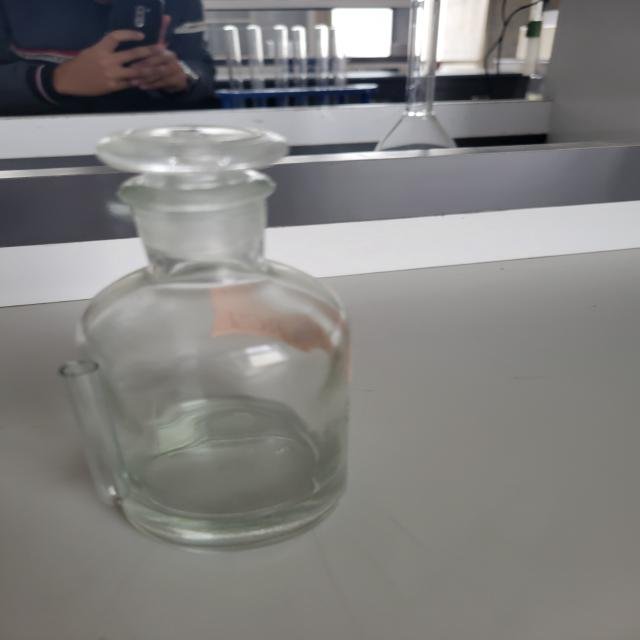Reagent_Bottle: (21, 97, 432, 581)
